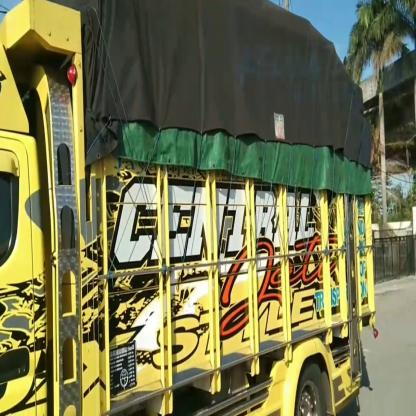truck: (1, 1, 379, 413)
